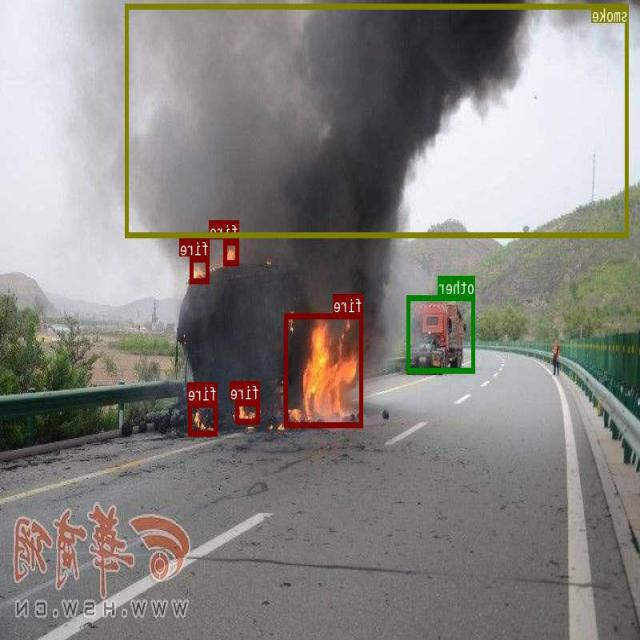fire: (285, 313, 364, 427), (189, 401, 218, 435), (236, 400, 260, 423), (191, 256, 210, 282), (224, 239, 240, 264)
other: (408, 296, 476, 372)
smoke: (126, 2, 629, 237)
